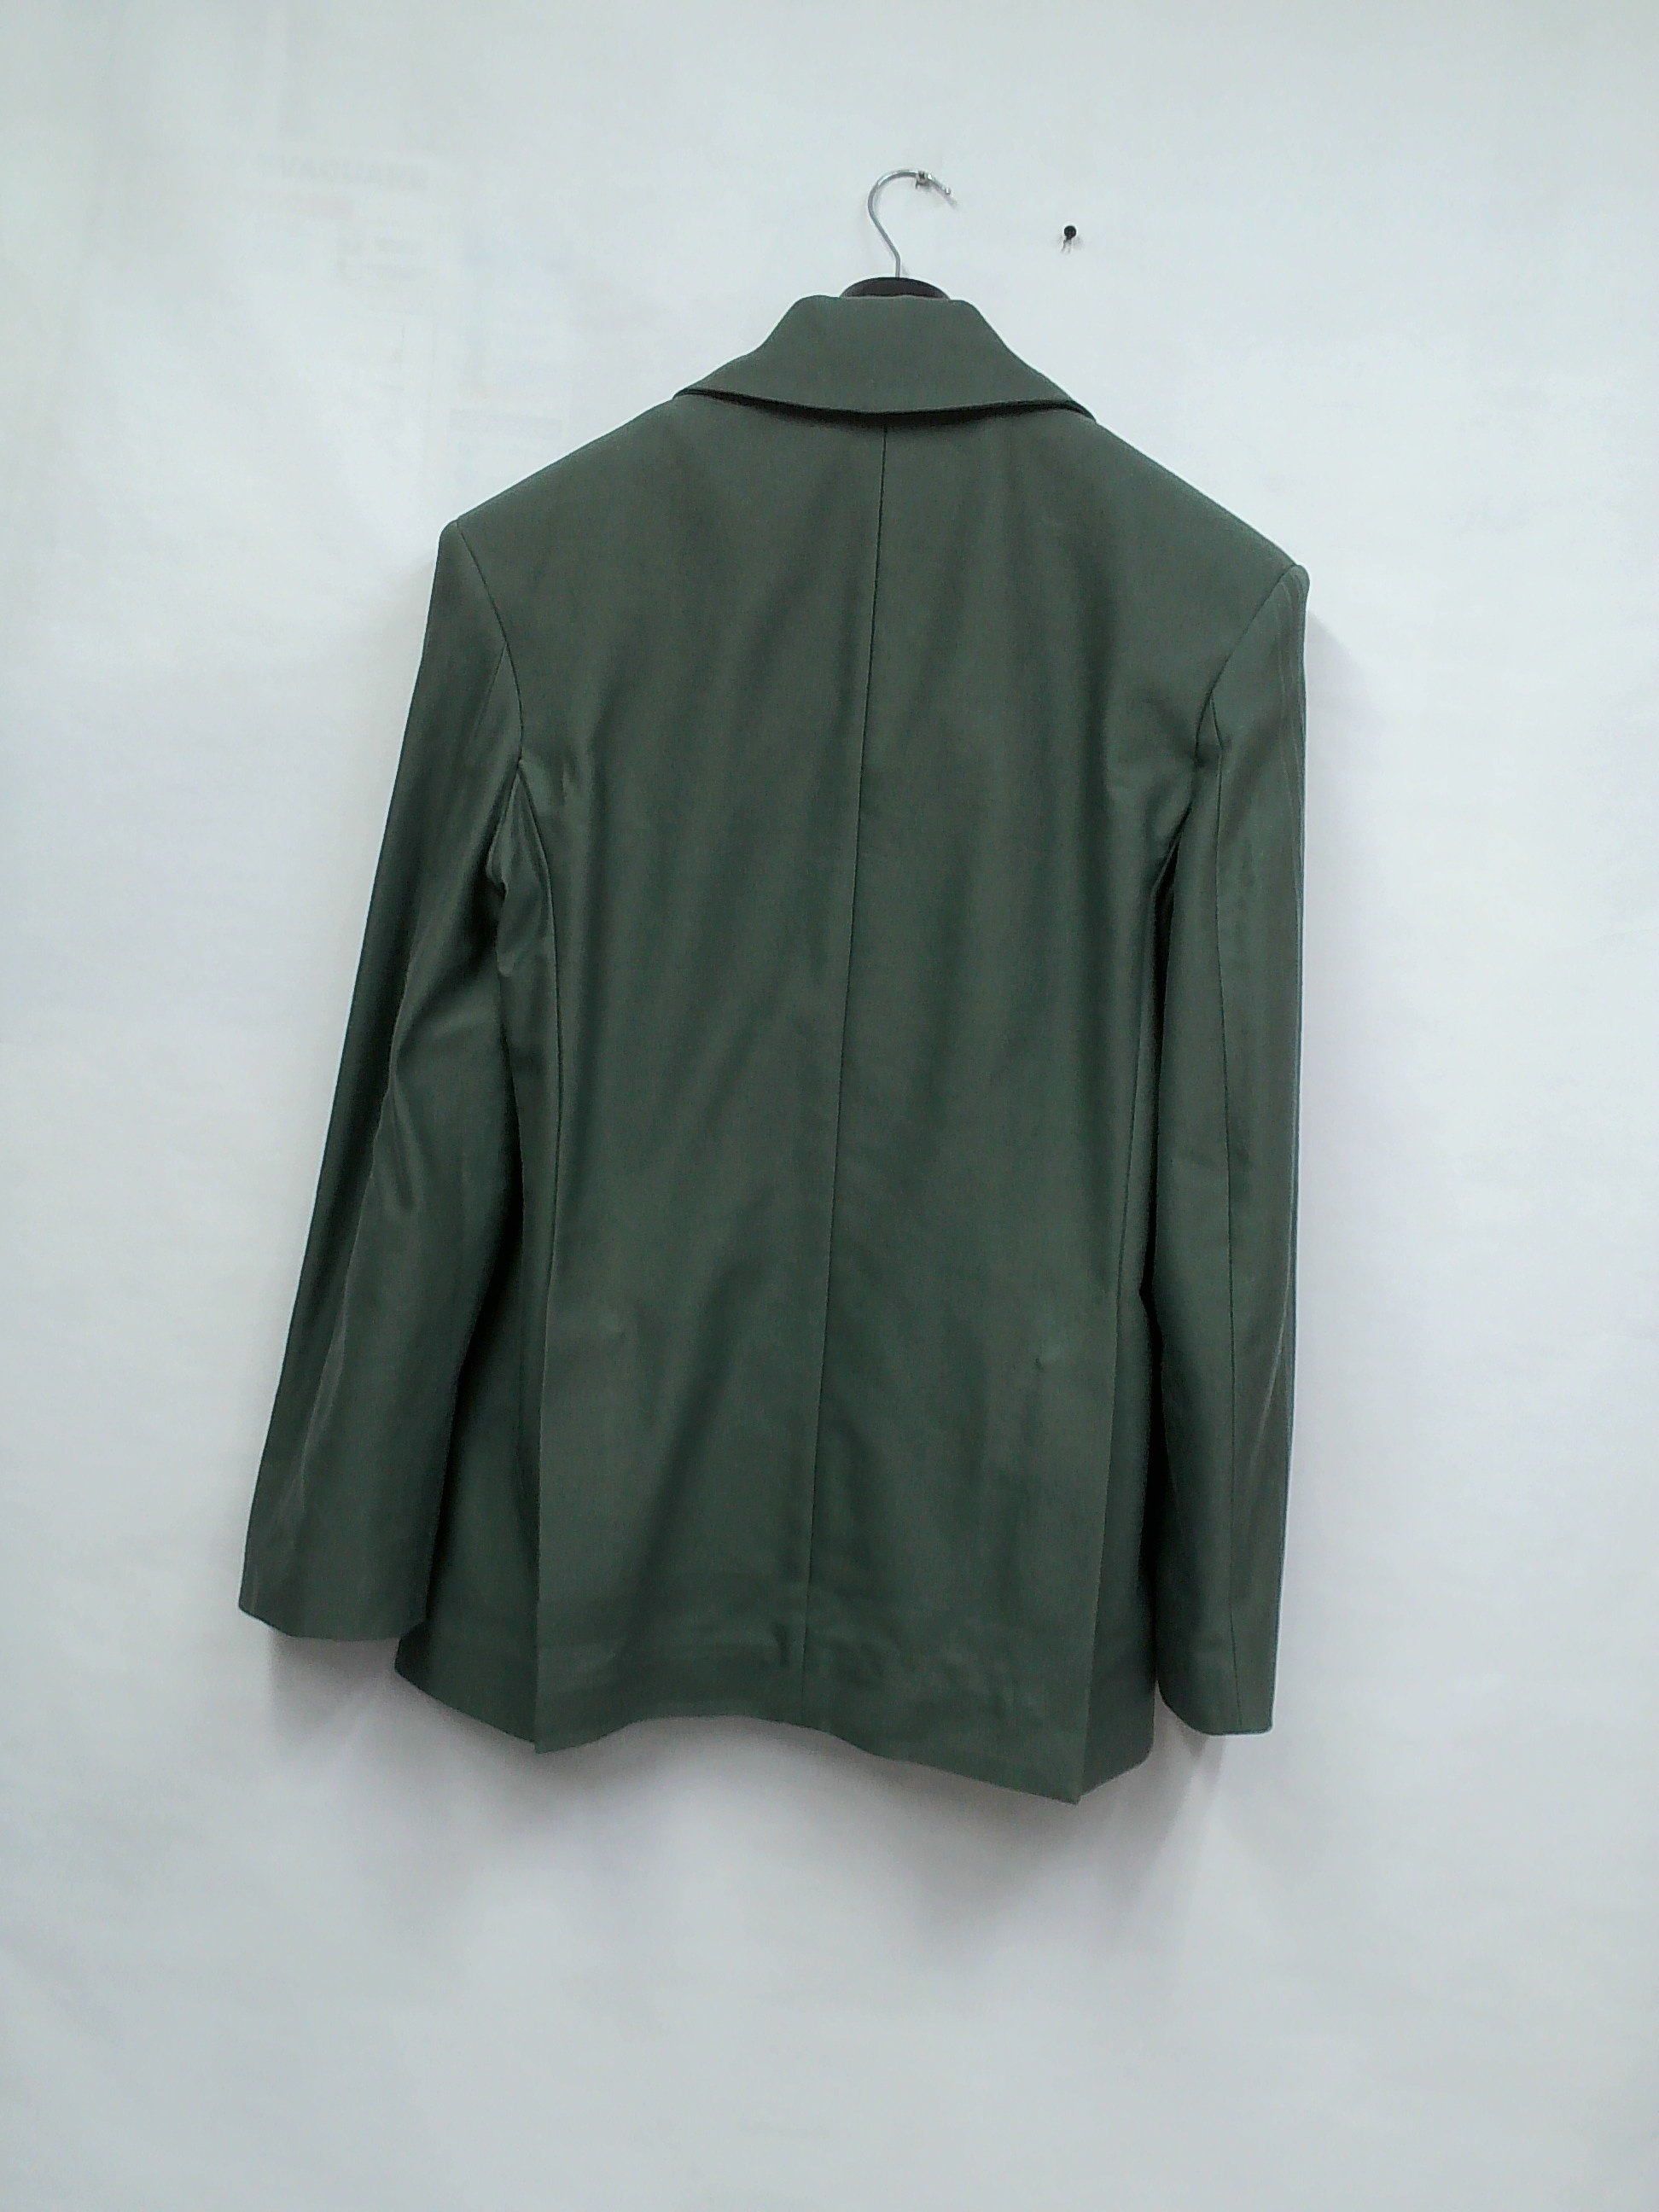seam: (446, 702, 586, 853)
